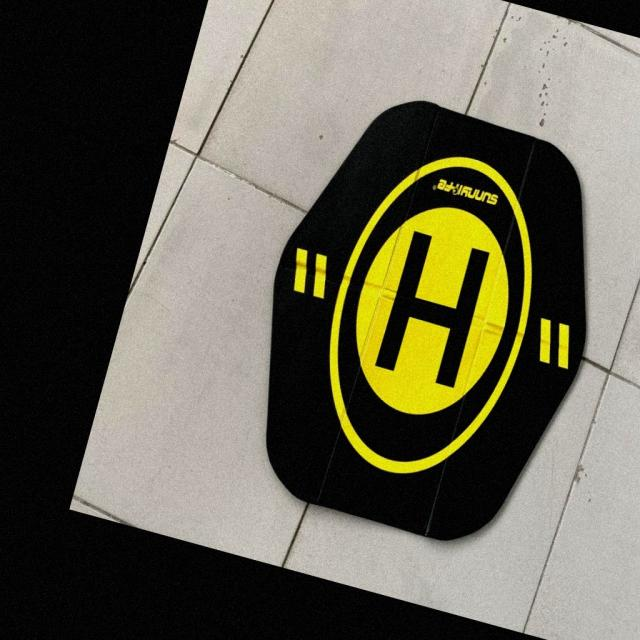helipad: (326, 148, 536, 479)
